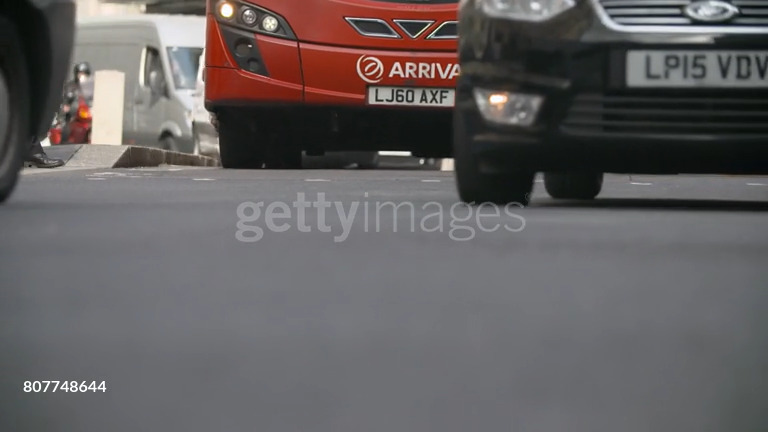car number: (621, 50, 762, 85), (366, 85, 455, 105)
